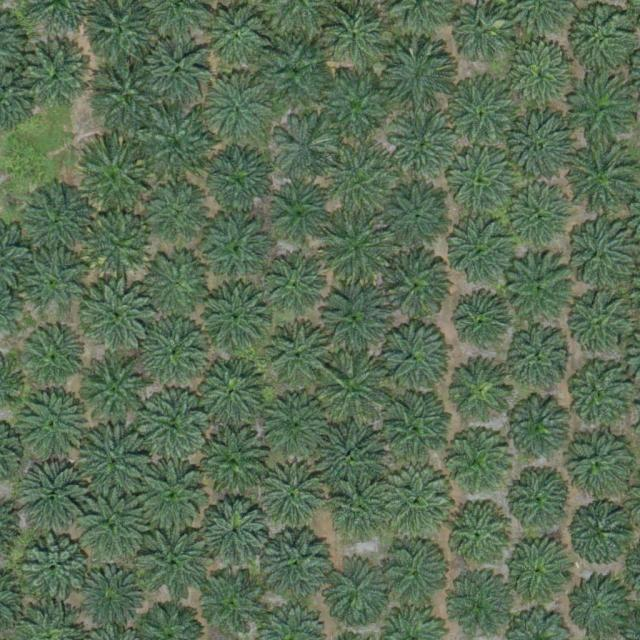Healthy: (375, 467, 453, 546), (204, 149, 275, 220), (382, 42, 453, 113), (446, 148, 517, 219), (15, 387, 86, 458), (321, 557, 392, 628), (139, 532, 210, 603), (74, 560, 145, 631), (22, 40, 92, 111), (91, 59, 161, 130), (144, 37, 215, 107), (261, 43, 331, 114), (320, 75, 390, 146), (322, 149, 392, 220), (391, 111, 461, 182), (448, 79, 518, 150), (380, 183, 450, 254), (502, 114, 572, 185), (506, 41, 576, 112), (568, 76, 638, 147), (565, 147, 635, 218), (564, 285, 634, 356), (563, 426, 633, 497), (504, 254, 574, 325), (446, 504, 516, 575), (444, 429, 514, 500), (380, 250, 450, 321), (377, 321, 447, 392), (380, 390, 450, 461), (323, 212, 393, 283), (319, 286, 389, 357), (320, 350, 390, 421), (315, 421, 385, 492), (198, 281, 268, 352), (200, 430, 270, 501), (142, 317, 212, 388), (84, 279, 155, 349), (82, 358, 153, 428), (16, 464, 86, 535), (78, 496, 148, 567), (137, 460, 207, 531), (202, 501, 272, 572), (380, 536, 450, 607), (262, 529, 332, 600), (21, 534, 91, 605), (142, 114, 212, 184), (566, 217, 636, 287), (258, 462, 328, 532), (196, 357, 266, 427), (141, 249, 211, 319), (141, 390, 211, 460), (79, 429, 149, 499), (209, 78, 272, 141), (569, 363, 632, 426), (145, 182, 208, 245), (30, 189, 93, 252), (20, 326, 83, 389), (205, 4, 267, 67), (268, 184, 330, 247), (325, 2, 388, 64), (510, 186, 573, 248), (572, 7, 634, 70), (510, 329, 573, 391), (507, 471, 570, 533), (451, 221, 513, 284), (454, 292, 516, 355), (454, 361, 517, 423), (264, 254, 326, 317), (266, 321, 328, 384), (265, 394, 327, 457), (206, 218, 268, 281), (23, 251, 85, 314), (569, 576, 631, 639), (506, 539, 568, 602), (272, 120, 334, 182), (576, 501, 638, 563), (507, 397, 569, 459), (333, 486, 380, 533)
Yellow: (76, 142, 154, 220), (87, 213, 149, 276)
